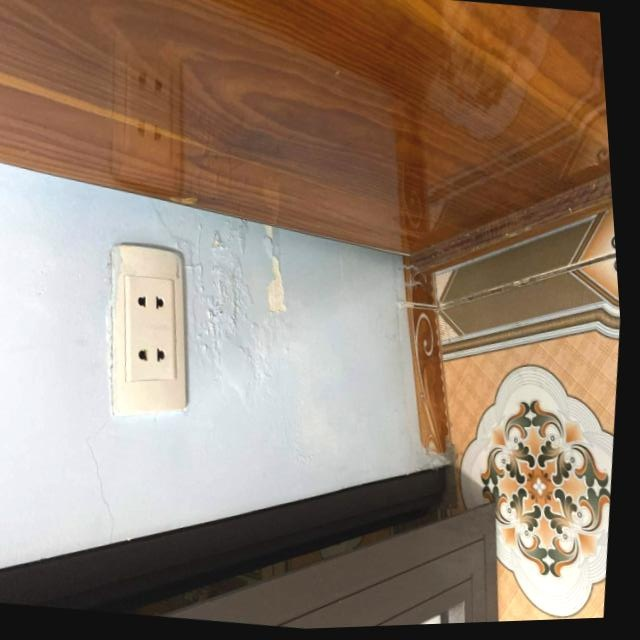outlet: (88, 239, 207, 426)
